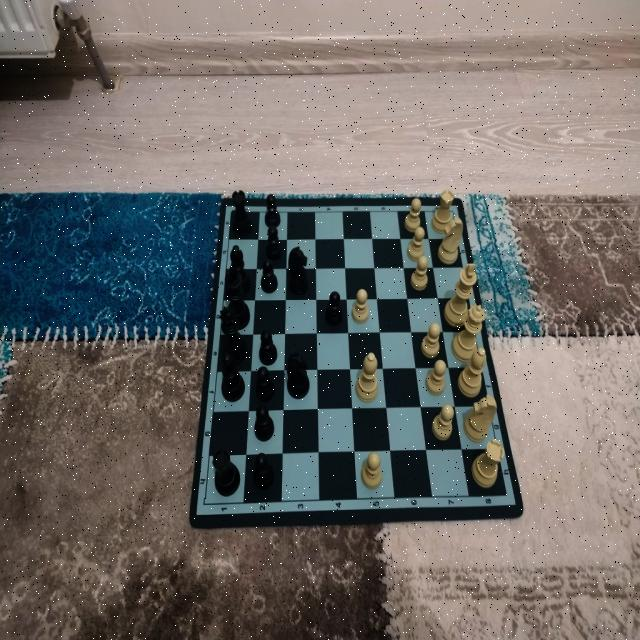corner: (501, 487, 511, 502), (200, 498, 210, 510), (226, 207, 236, 217), (448, 207, 456, 217)
